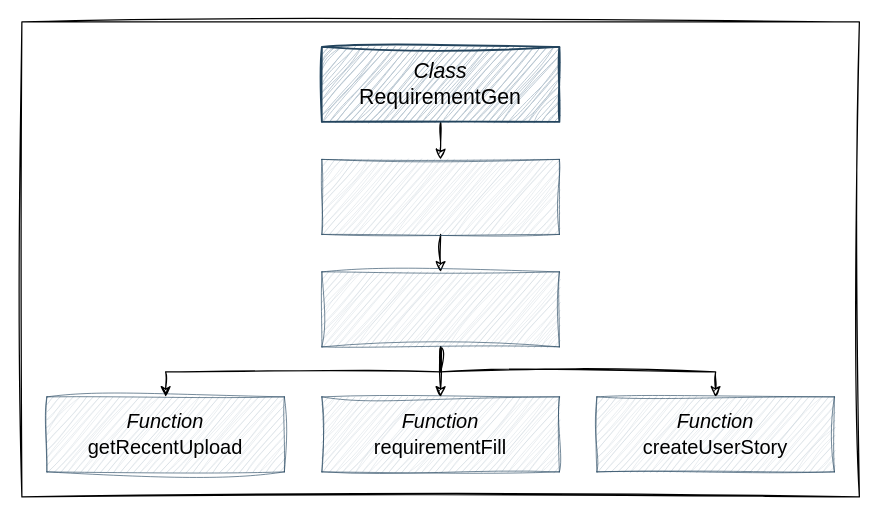
The diagram is 881 pixels wide and 519 high, and some of its shapes have lost their labels. The shapes that lost their labels are listed below. From the top down, each one's box as (x1, y1, x2, y2) in pixels, then its label:
(321, 158, 559, 234): Function handleProcess
(321, 271, 559, 347): Function createRequirementsList
